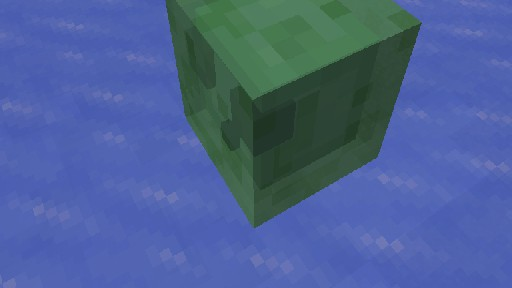slime: (161, 0, 421, 228)
